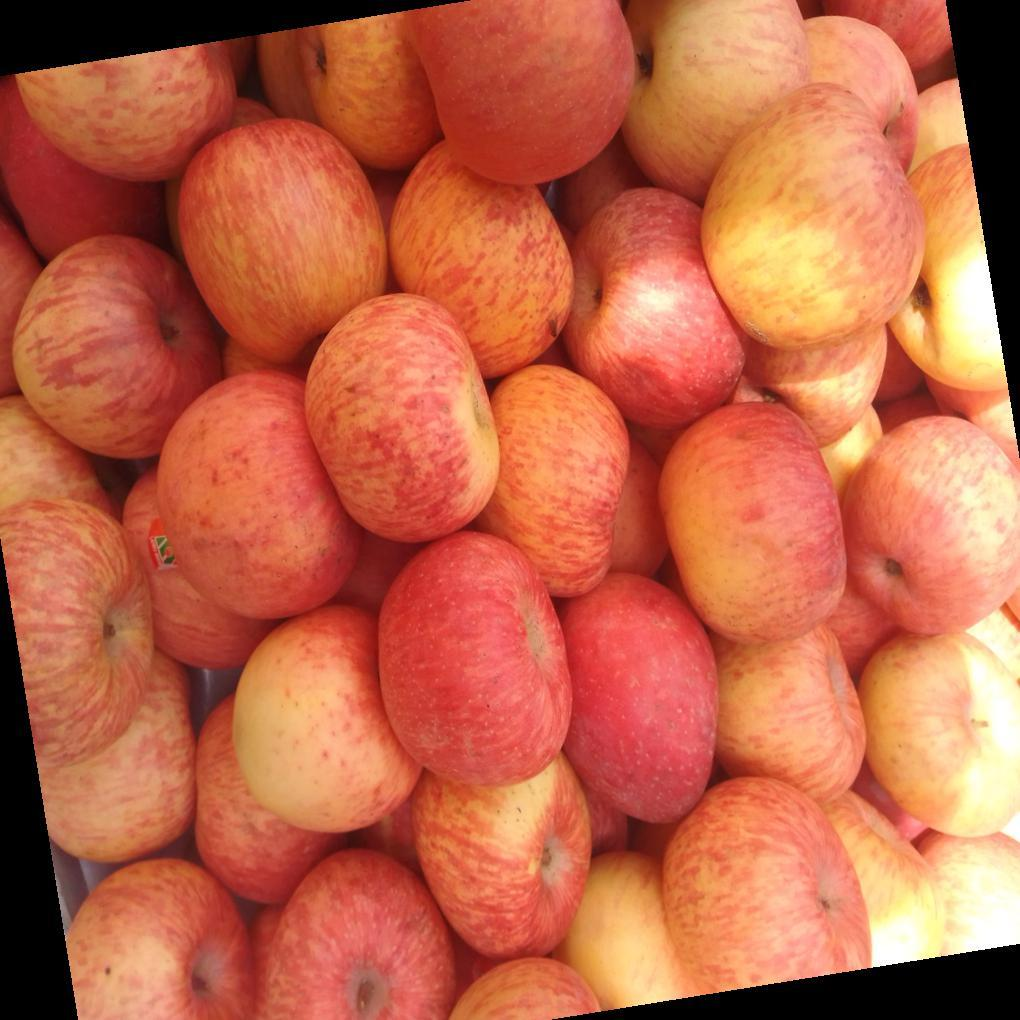FreshGuava: (8, 20, 1020, 1020)
